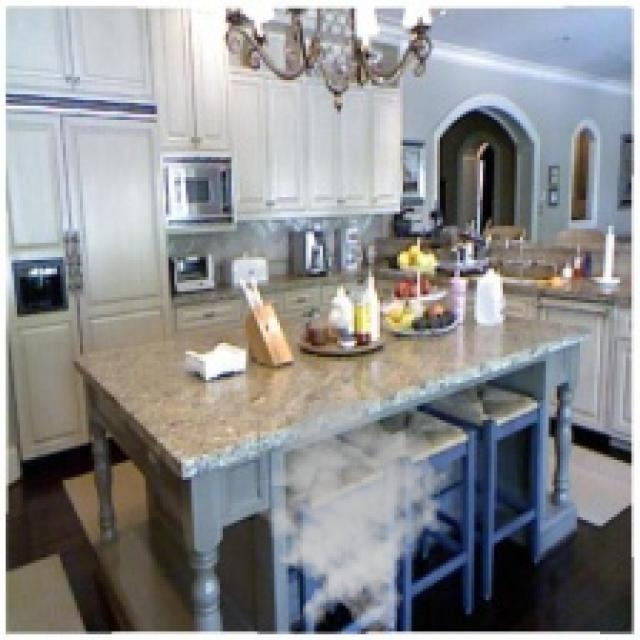smoke: (246, 394, 454, 637)
